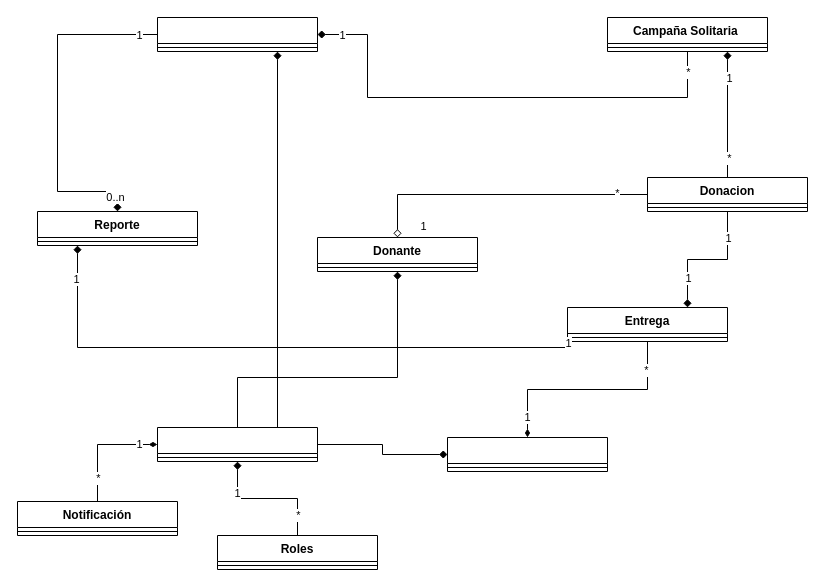
Image size: 825x587. Some labels were removed from this diagram. Each missing label, with the box of its shape:
Beneficiario: (156, 16, 318, 52)
Domiciliario: (446, 436, 608, 472)
Usuario: (156, 426, 318, 462)
